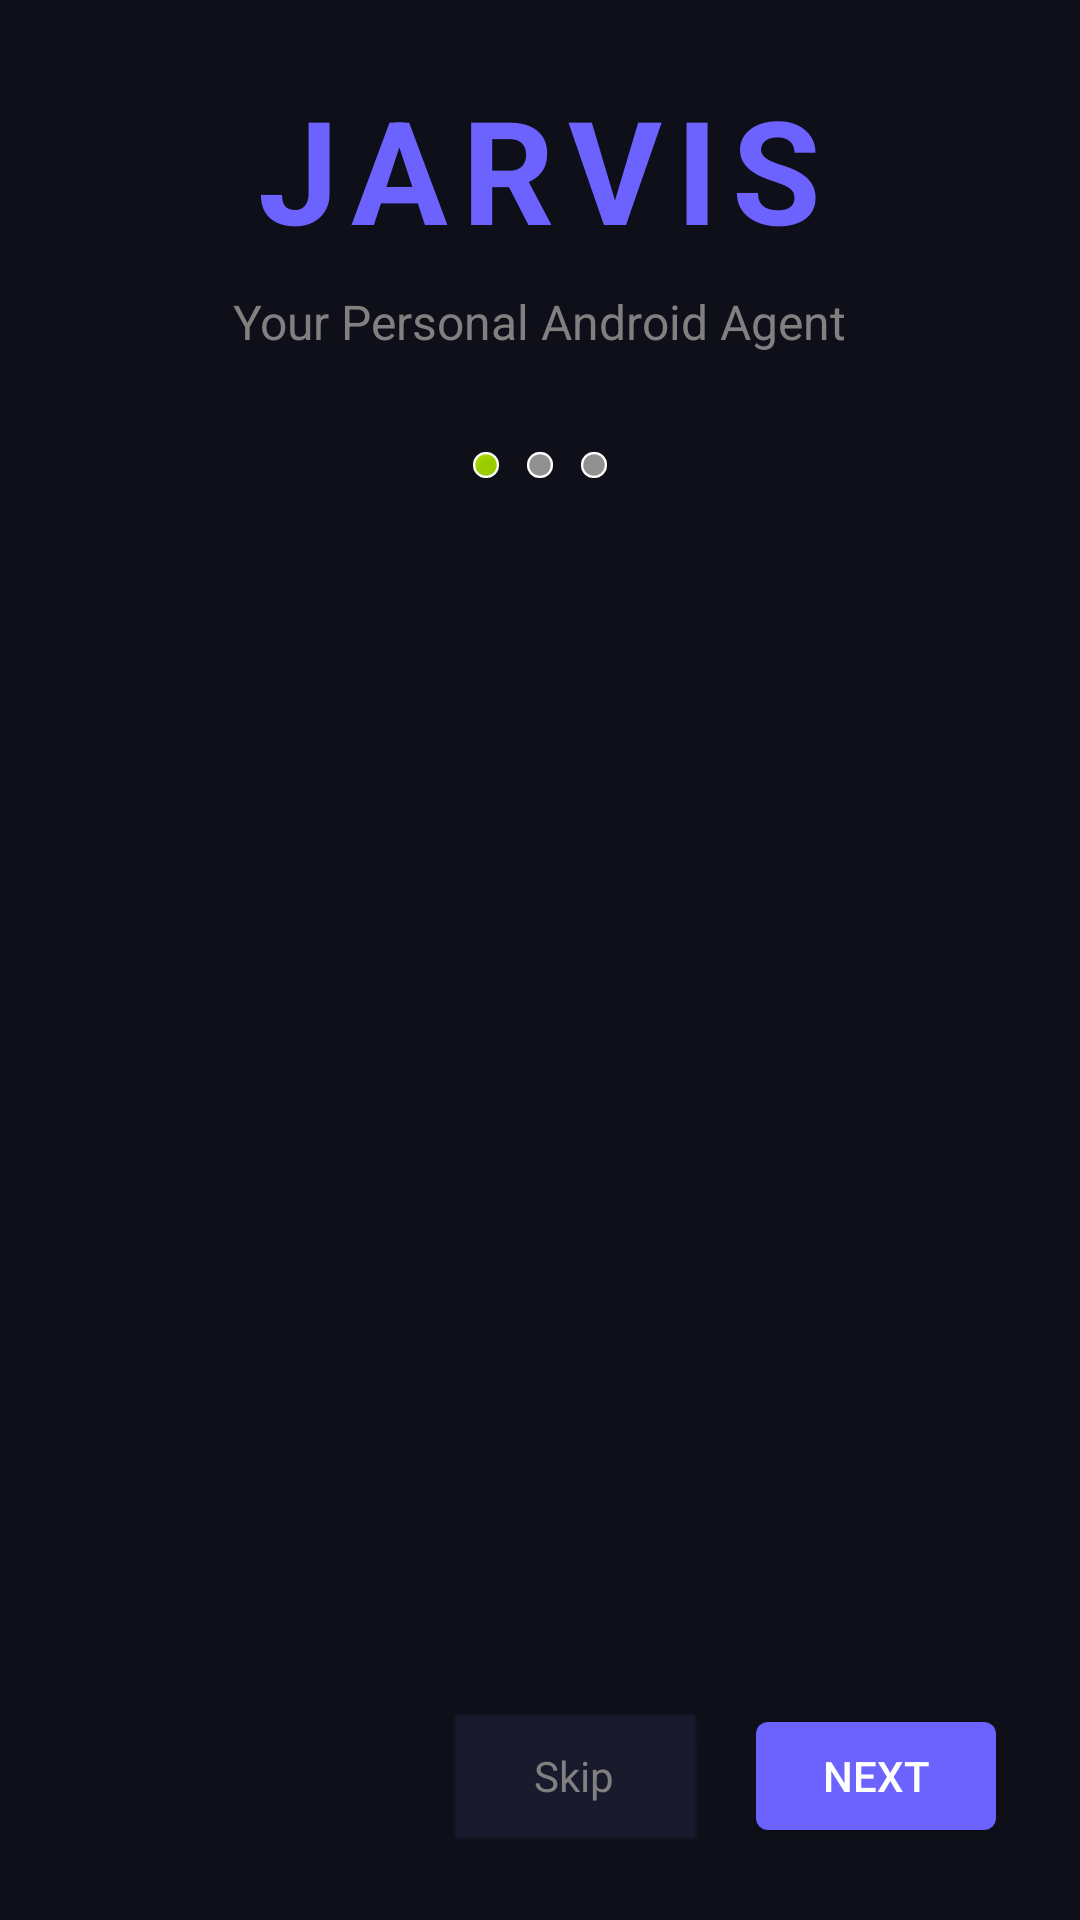

Icon bounding boxes for this 1080 × 1920 phone screenshot, format region(x1, y1, x2, y2):
presence invisible: region(527, 452, 553, 478), region(581, 452, 607, 478)
presence online: region(473, 452, 499, 478)
